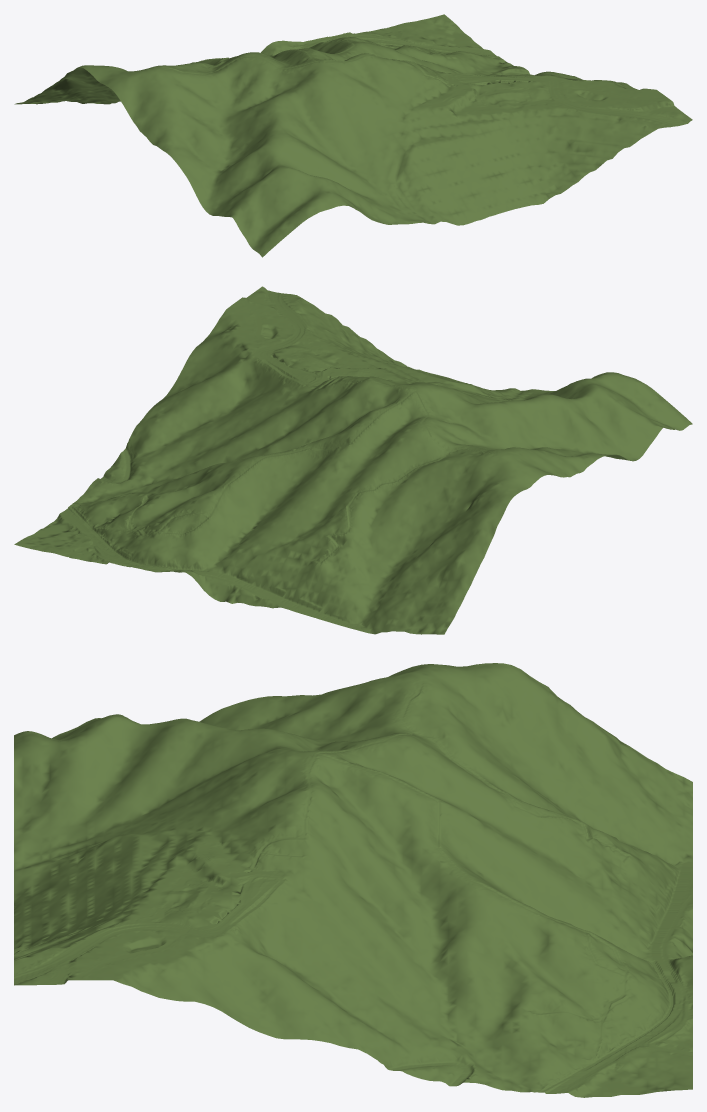
Rendered from terrain_1_0.glb.
The picture shows the model from 3 angles, top to bottom: view 1: azimuth 30°, elevation 25°; view 2: azimuth 150°, elevation 25°; view 3: azimuth 270°, elevation 25°; orthographic projection. The views are drawn at different scales.
Parts seen in each view (by area): view 1: terrain_1_0; view 2: terrain_1_0; view 3: terrain_1_0.
Part boxes in pixels (left/top/right/bottom): terrain_1_0: left=14, top=14, right=692, bottom=257; terrain_1_0: left=14, top=286, right=692, bottom=634; terrain_1_0: left=14, top=663, right=692, bottom=1097.
Size of the model in its own units: 600 by 166 by 600.
